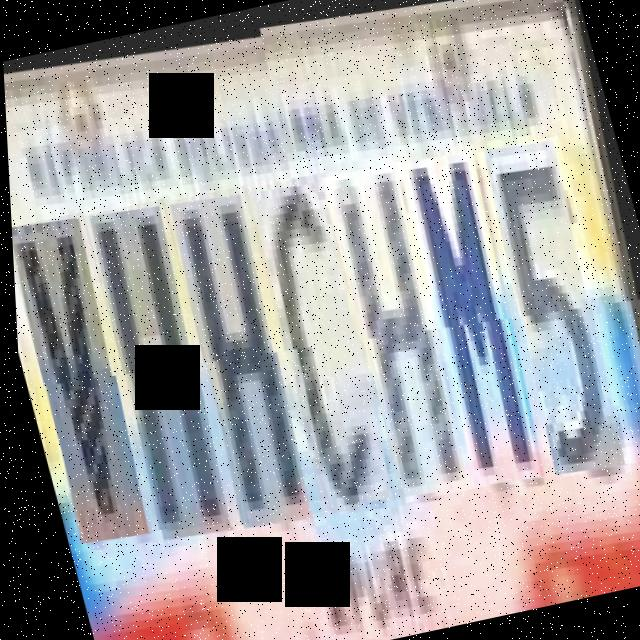5: (476, 135, 640, 477)
C: (241, 172, 406, 514)
H: (81, 198, 246, 540), (161, 185, 326, 527), (319, 160, 483, 502)
M: (395, 148, 560, 490)
V: (9, 211, 163, 545)
